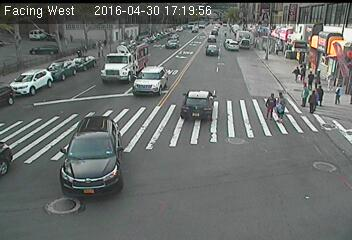neg: (232, 90, 254, 119), (332, 48, 351, 75), (188, 88, 207, 112), (95, 137, 113, 161), (264, 63, 280, 84), (1, 146, 15, 167), (322, 120, 337, 139), (139, 78, 151, 93), (33, 46, 43, 59), (285, 51, 294, 63), (217, 58, 226, 70), (274, 45, 282, 56), (221, 29, 229, 39), (97, 46, 104, 56), (245, 40, 252, 49), (20, 75, 27, 84), (168, 41, 175, 50)
pos: (268, 89, 294, 124), (259, 88, 285, 122), (330, 81, 349, 107), (304, 89, 323, 115), (297, 83, 315, 107), (313, 84, 330, 107), (296, 61, 312, 83), (304, 70, 319, 90), (314, 68, 328, 87), (292, 65, 306, 84), (74, 47, 82, 58)
